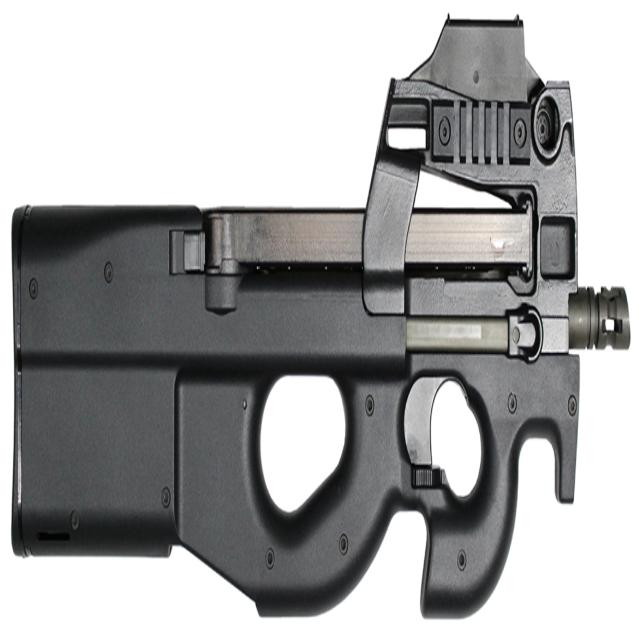SMG: (9, 15, 631, 624)
